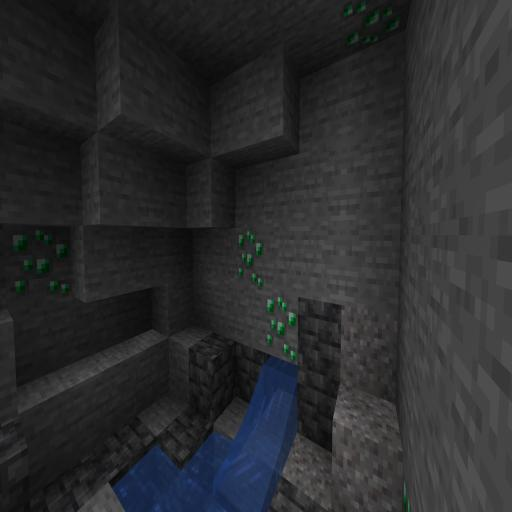emerald ore: (8, 221, 78, 301), (341, 4, 407, 62), (264, 287, 298, 366), (233, 221, 268, 297)
